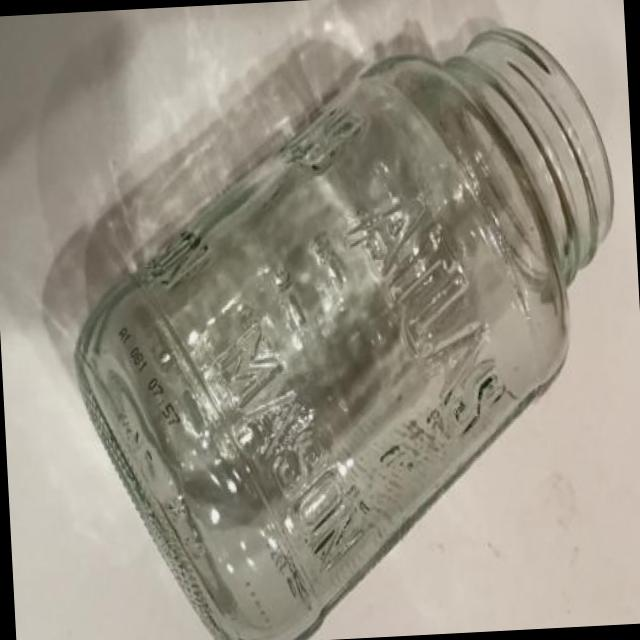chai_thuy_tinh: (73, 32, 614, 640)
